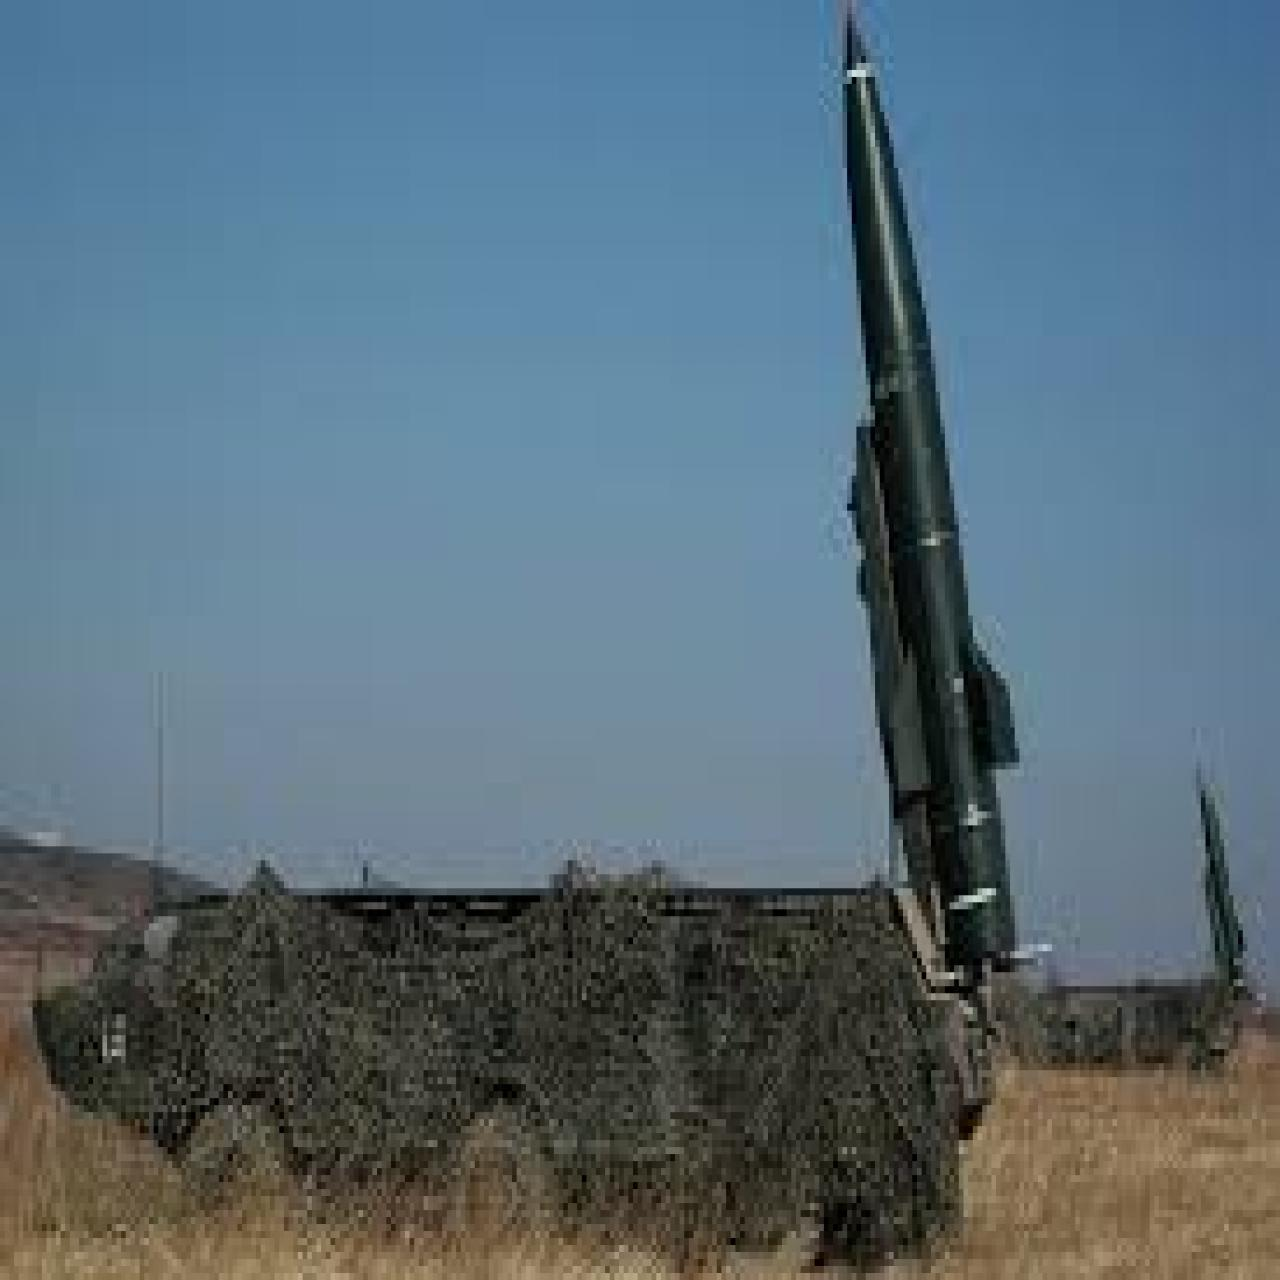MIL_Veh: (38, 11, 1016, 1248), (1008, 764, 1260, 1073)
